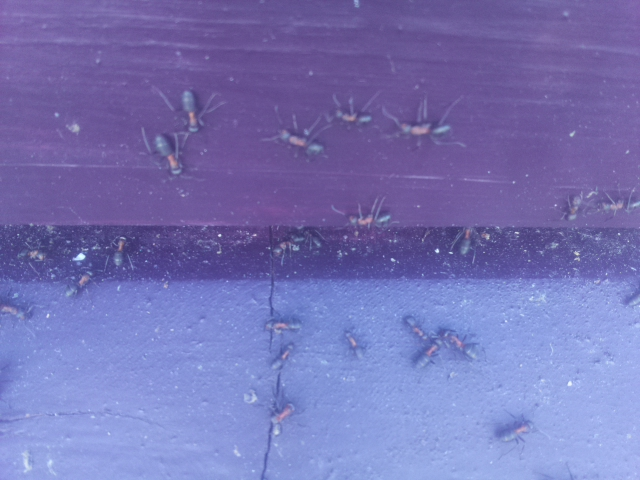ant: (143, 117, 190, 190), (268, 122, 330, 163), (176, 82, 208, 138), (263, 395, 300, 442), (326, 99, 380, 130), (264, 227, 322, 255), (391, 119, 453, 143), (493, 416, 537, 447), (442, 327, 480, 362), (339, 208, 397, 229), (64, 267, 97, 300), (265, 313, 303, 338), (558, 190, 584, 224), (111, 230, 129, 272)
